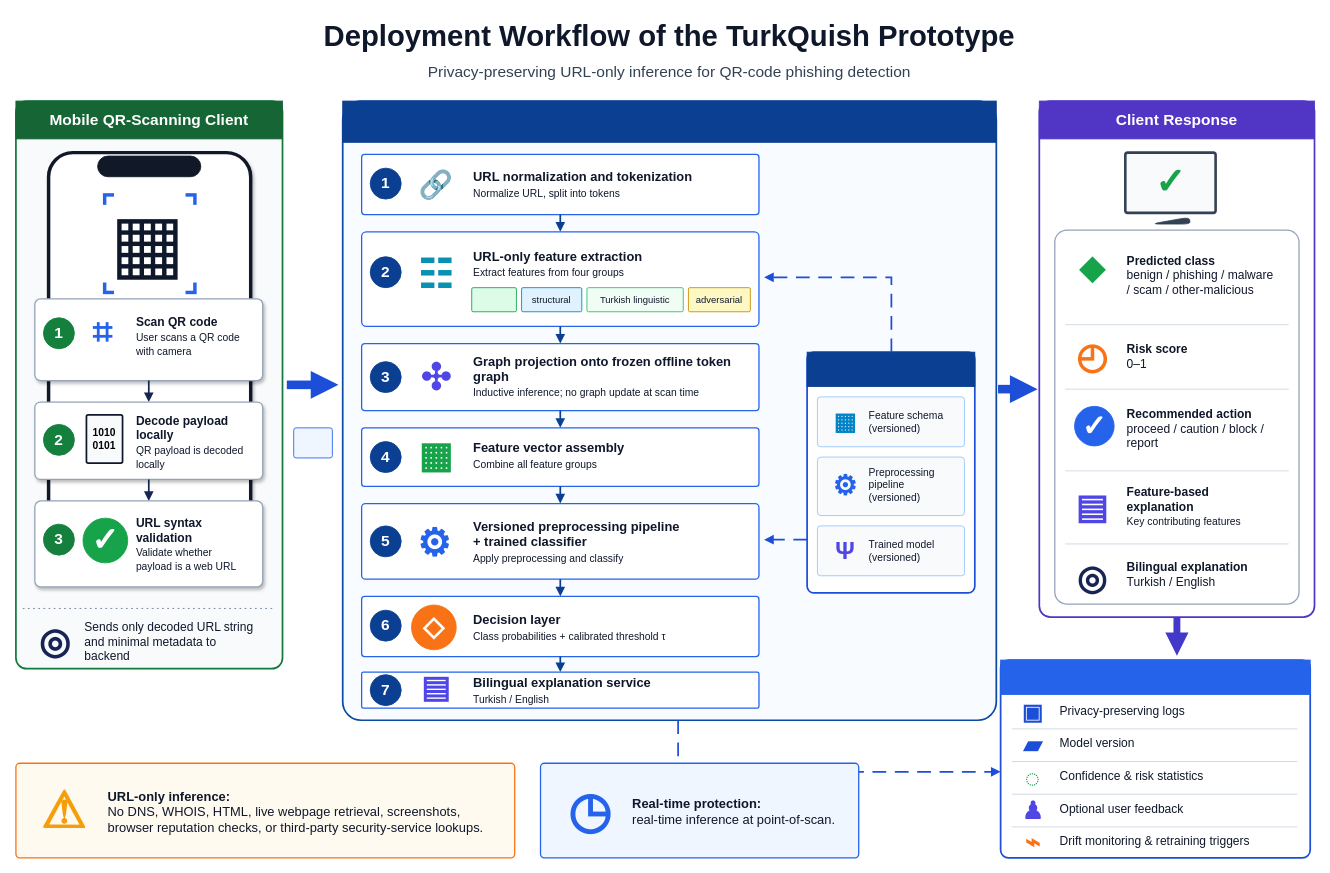
Some shapes in this 1330 by 873 pixel diagram are drawn without their labels. Each missing label, with the centre of its shape:
"lexical" belongs at [493,299].
"Monitoring & Feedback" belongs at [1155,676].
"URL" belongs at [312,442].
"Versioned artefacts" belongs at [890,369].
"▦ Backend Inference Service" belongs at [669,121].
